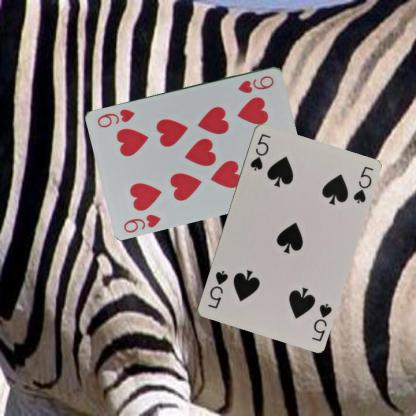5s: (247, 131, 272, 172), (309, 300, 333, 342)
9h: (121, 211, 162, 234), (235, 73, 276, 94)
